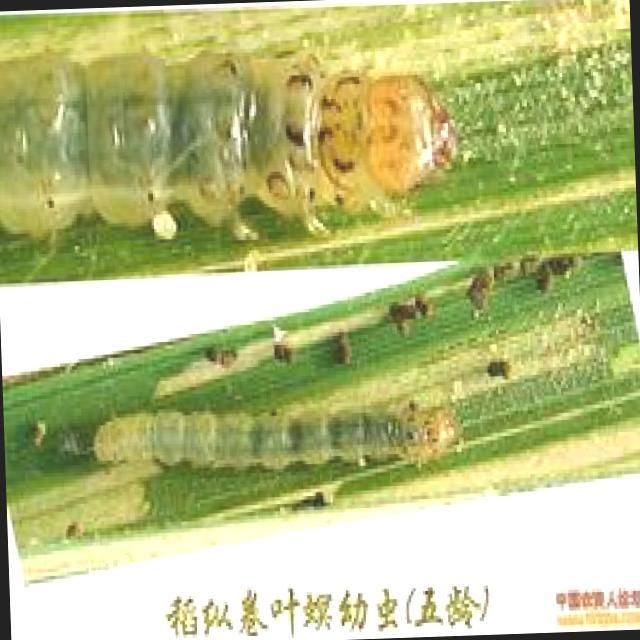leaf folder: (0, 58, 455, 233), (94, 411, 426, 468)
